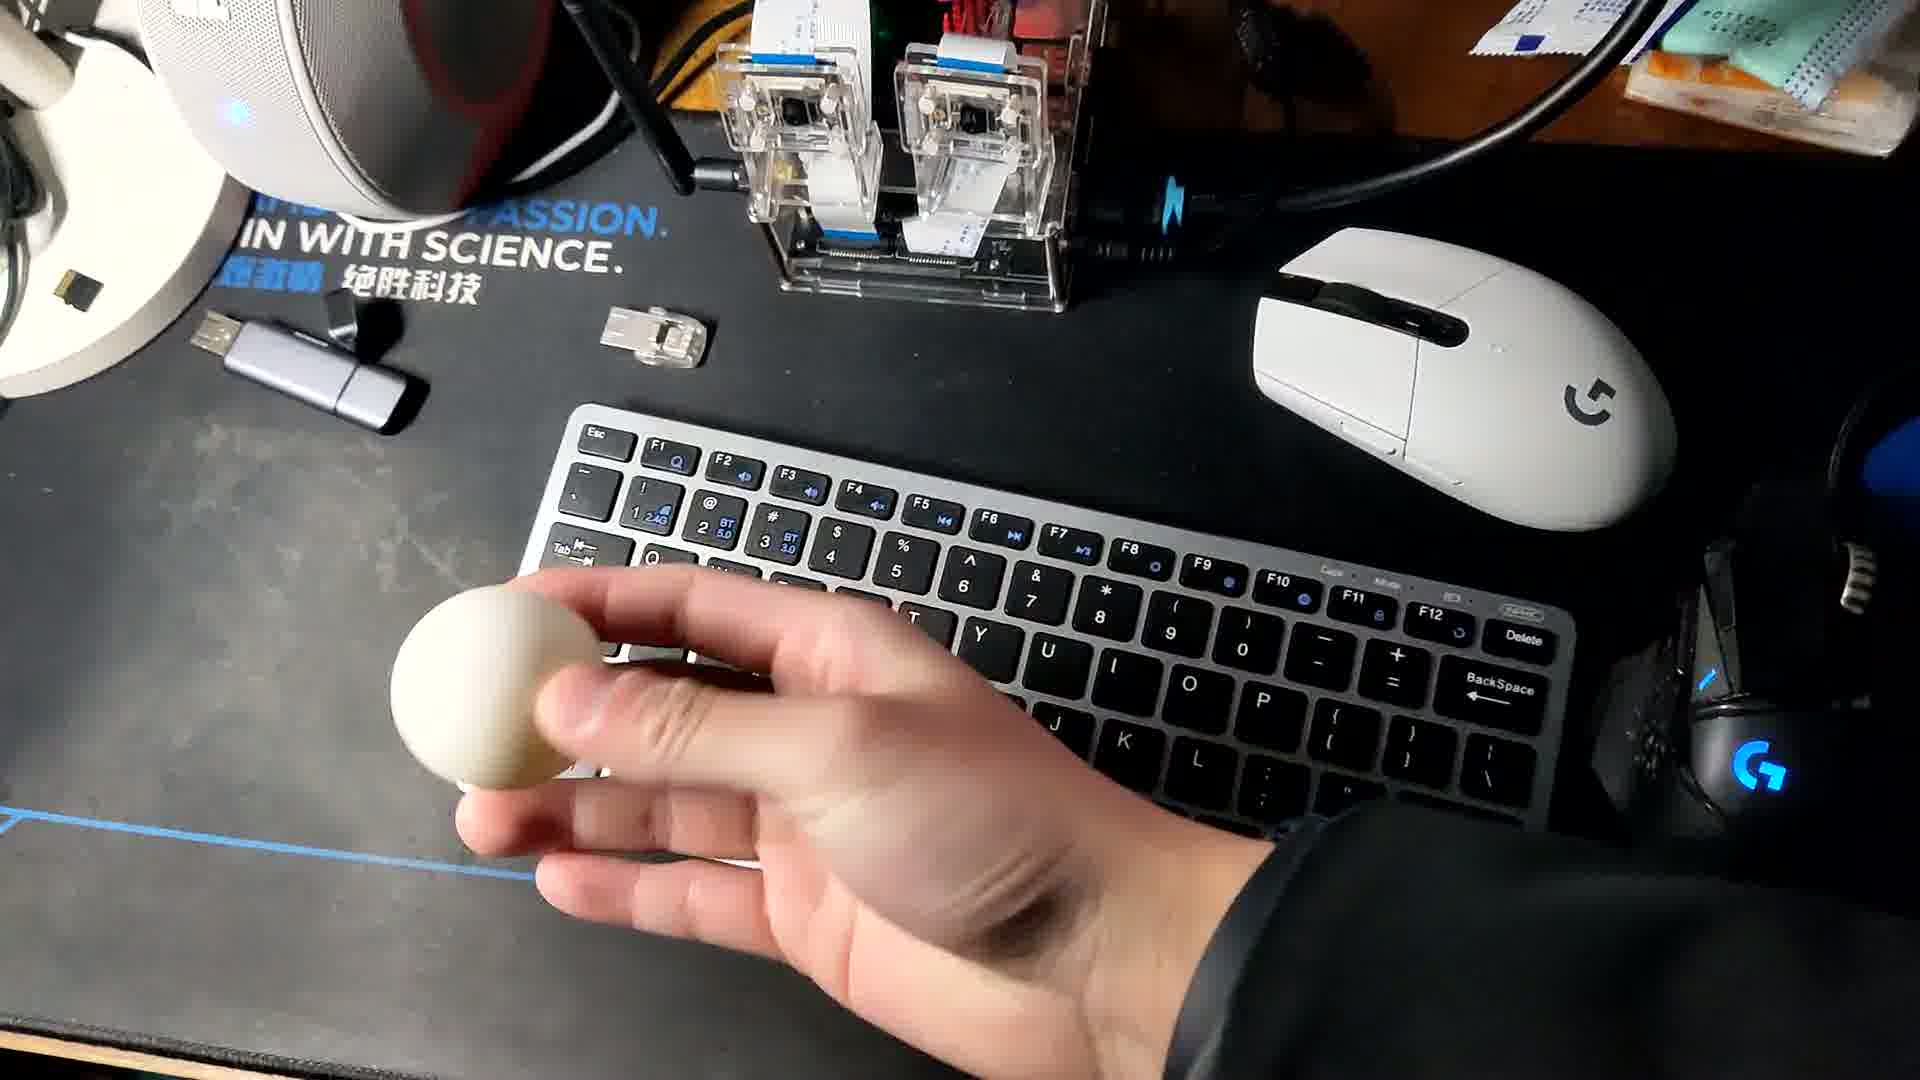Ball: (392, 583, 603, 796)
